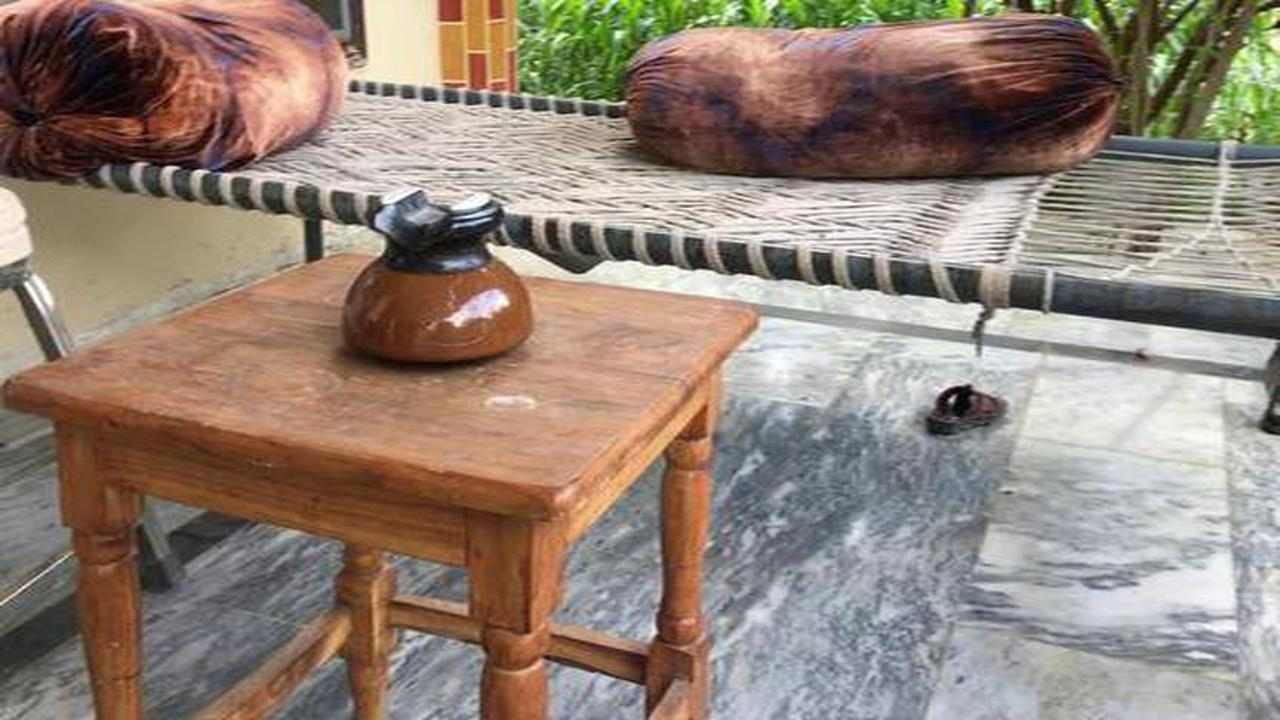insulator_pin: (320, 170, 554, 374)
